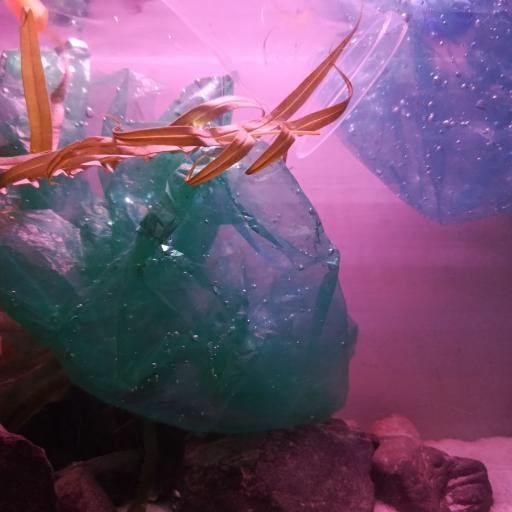plastic_bag: (1, 39, 358, 430), (311, 0, 512, 223)
plastic_cup: (161, 0, 412, 159)
